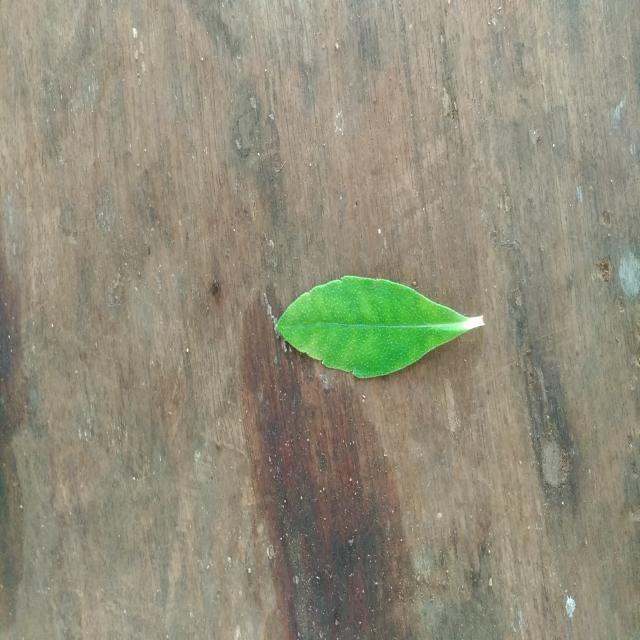bringaraja: (276, 276, 484, 378)
